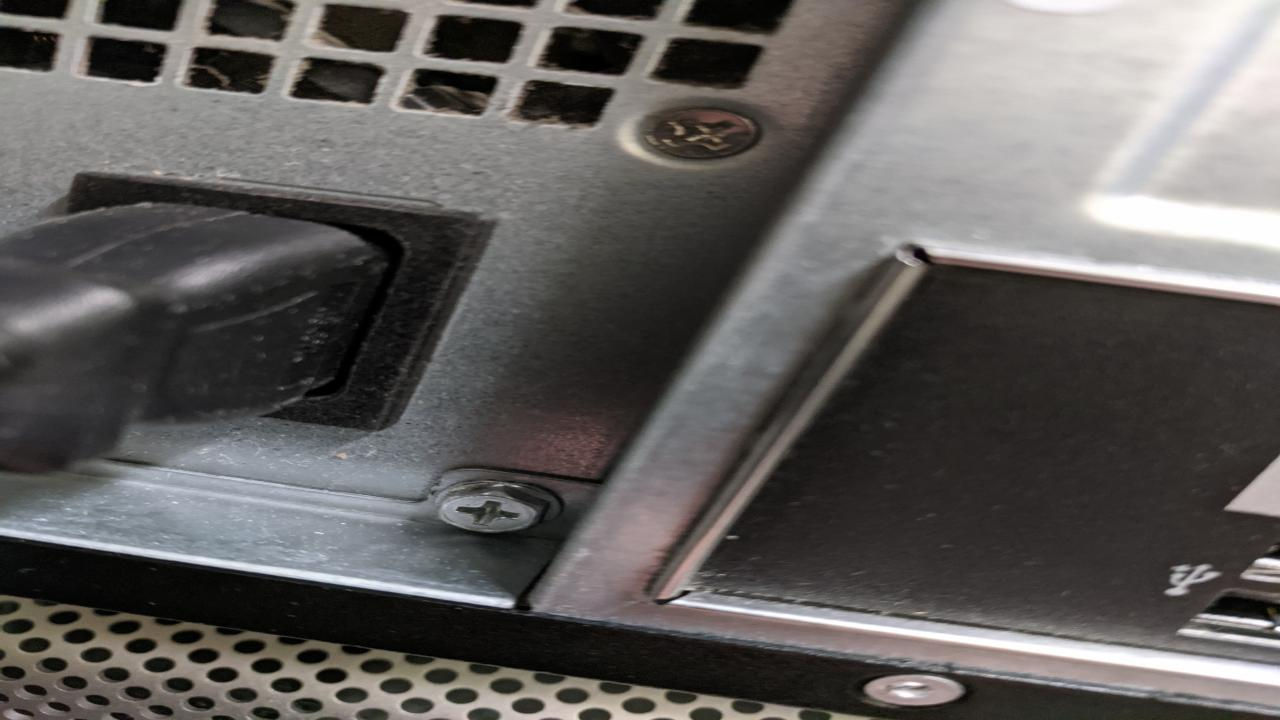CRS: (431, 480, 546, 543), (642, 101, 761, 160)
